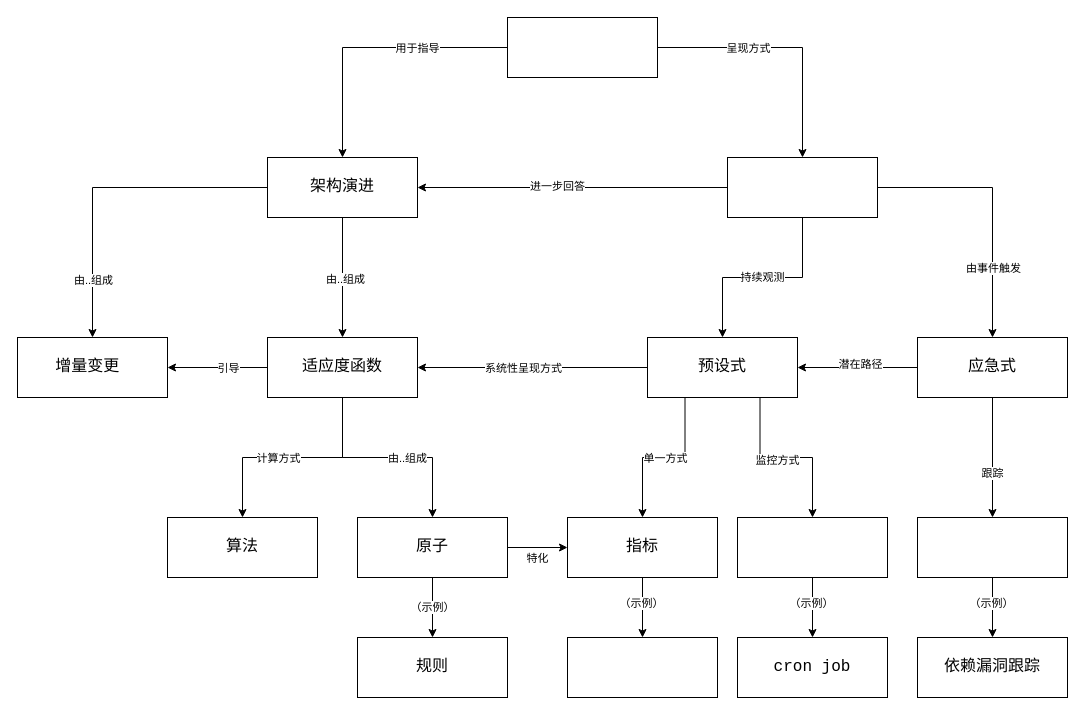
This 1085x715 diagram has some shape labels left out. Here are the shapes that lost their labels. From the top down, the box of each, then its label:
(506, 16, 658, 78): 架构洞察
(726, 156, 878, 218): 持续架构管理
(736, 516, 888, 578): 检查周期
(916, 516, 1068, 578): 趋势图
(566, 636, 718, 698): 测试覆盖率
